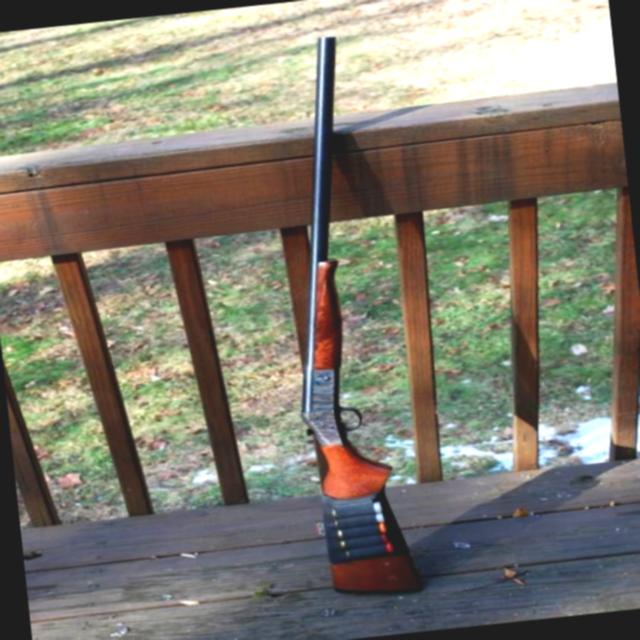shotgun: (200, 1, 543, 620)
